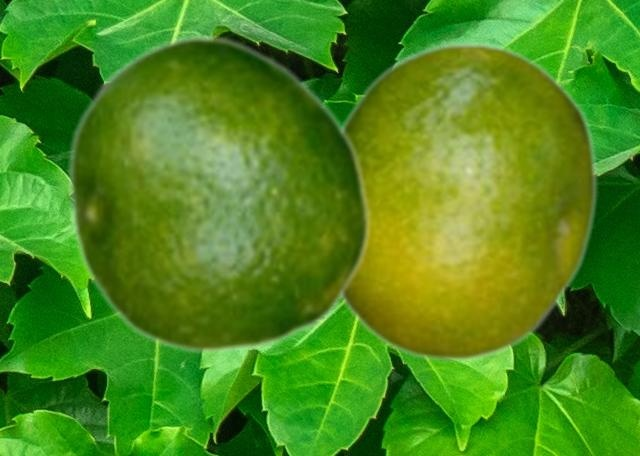calamansi: (65, 33, 372, 354), (341, 40, 597, 361)
